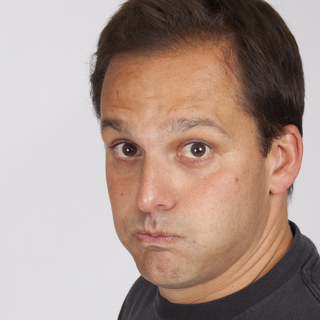eye: (165, 136, 219, 166), (103, 136, 148, 166)
